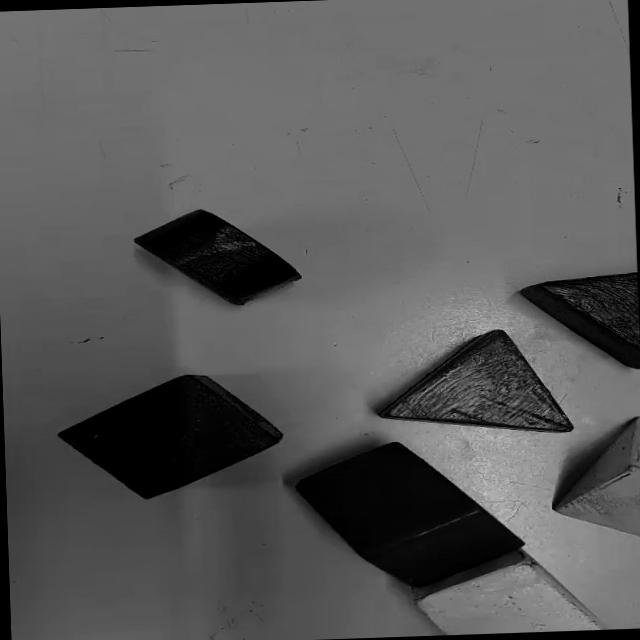bcircle: (133, 209, 300, 304)
bcube: (58, 374, 281, 498)
rcube: (295, 442, 522, 585)
rtriangle: (378, 329, 572, 431)
